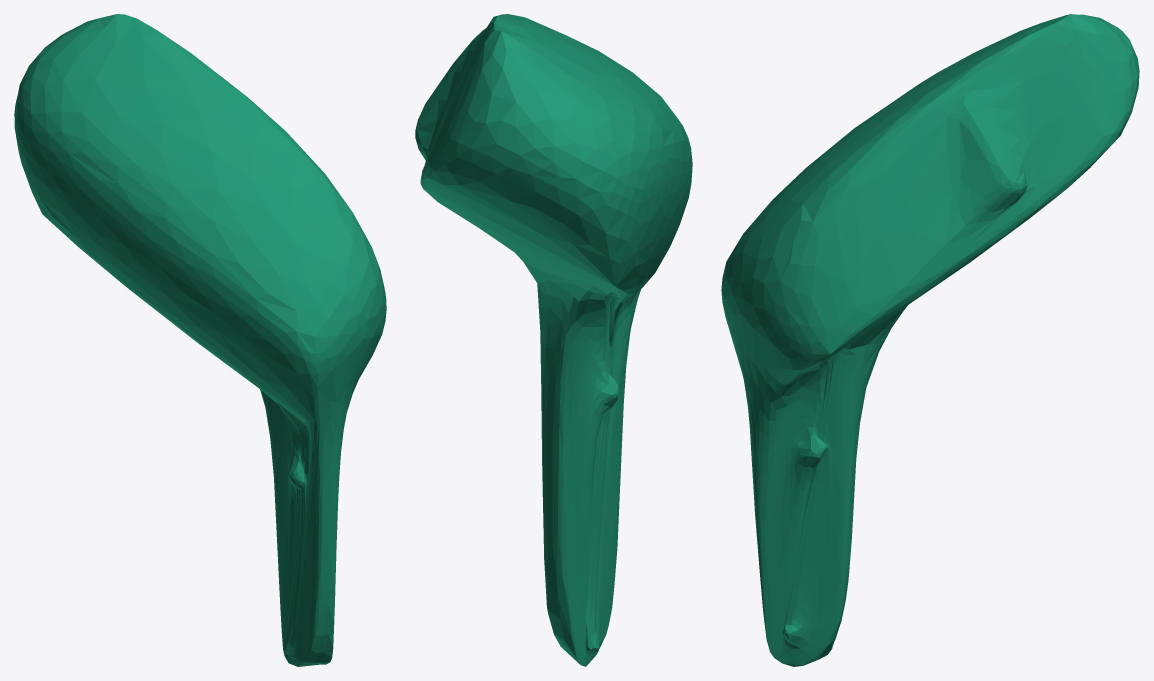
3 renders of one model, left to right at view 1: azimuth 30°, elevation 25°; view 2: azimuth 150°, elevation 25°; view 3: azimuth 270°, elevation 25°, orthographic. The views are drawn at different scales.
Visible parts, largest first — view 1: 619_Cube.2489; view 2: 619_Cube.2489; view 3: 619_Cube.2489.
Part boxes in pixels (x1,y1,x2,y2): 619_Cube.2489: (14, 14, 386, 666); 619_Cube.2489: (415, 14, 692, 666); 619_Cube.2489: (721, 14, 1139, 666).
Bounding box in the file's own units: 7.33 × 16.29 × 10.
